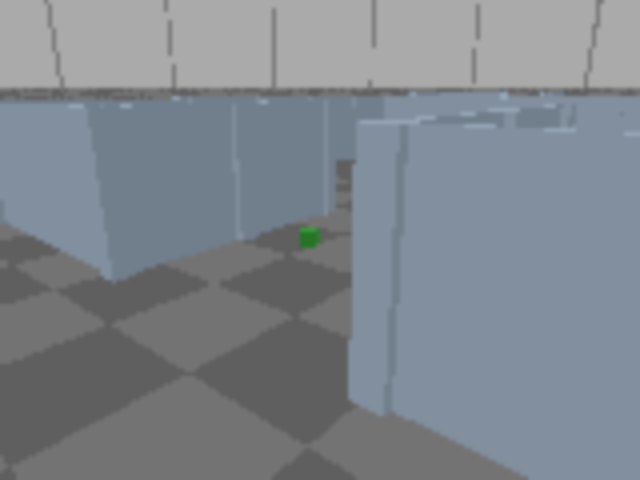puck: (301, 226, 320, 248)
